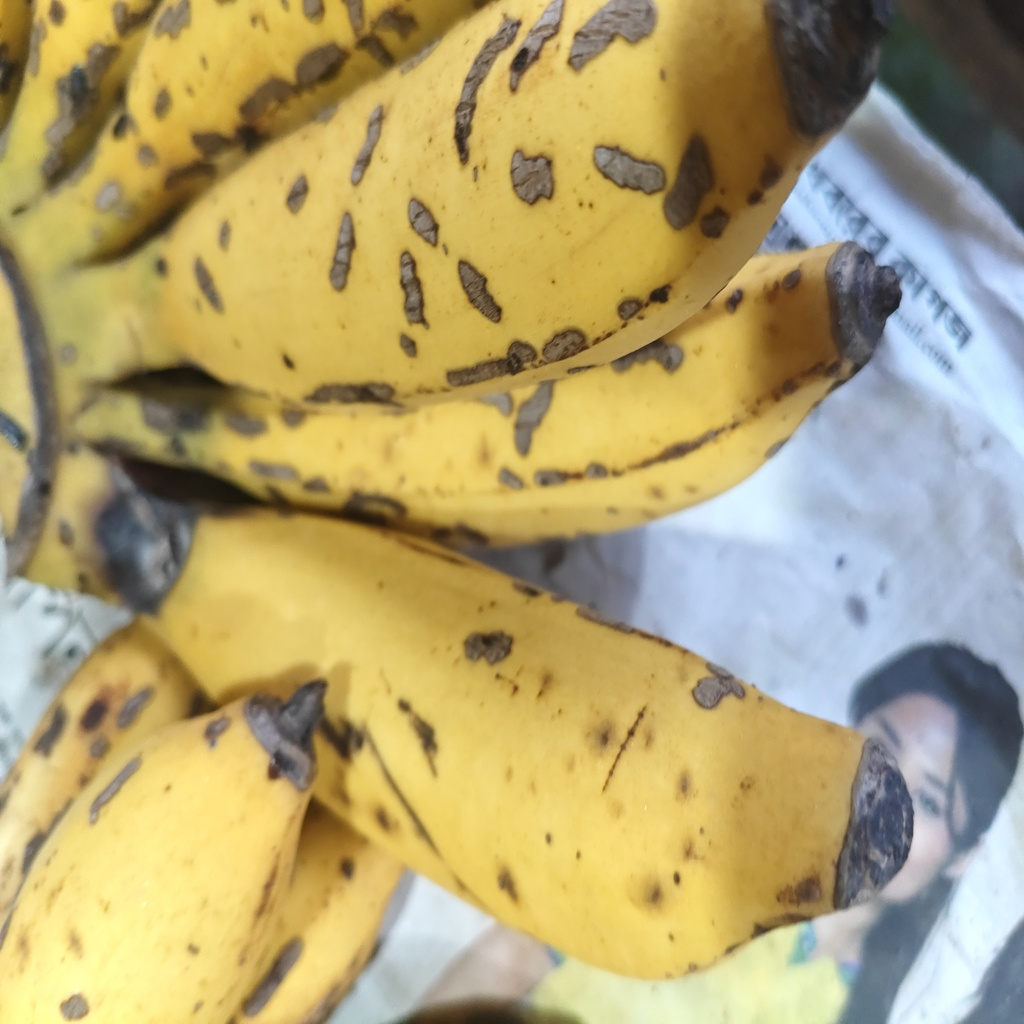unhealthy: (157, 507, 882, 981), (149, 3, 883, 406), (172, 244, 896, 546)
